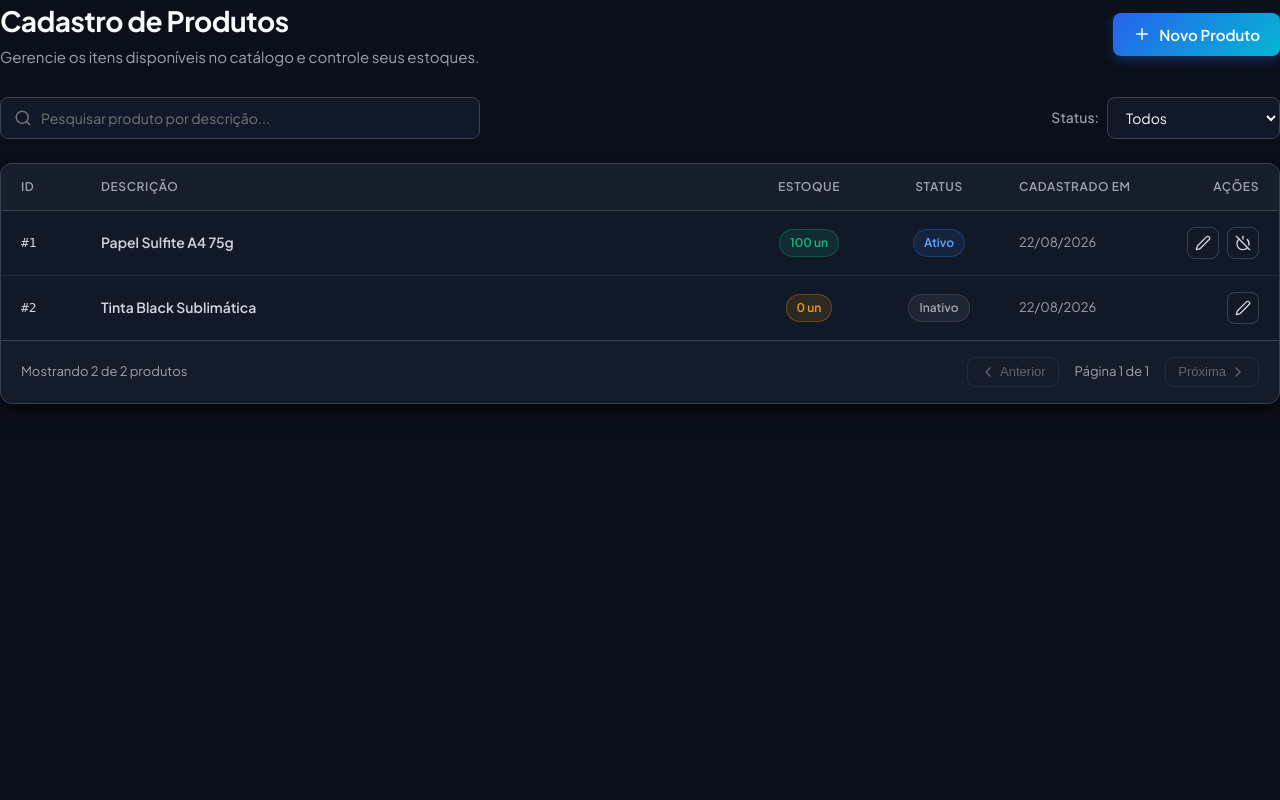
Test: Módulo de Produtos (Front-end) › deve abrir o modal de edição com os dados preenchidos
Click the button with test id "botao-editar-1". click: {"x": 1203, "y": 242}
box: [1187,226,1219,258]
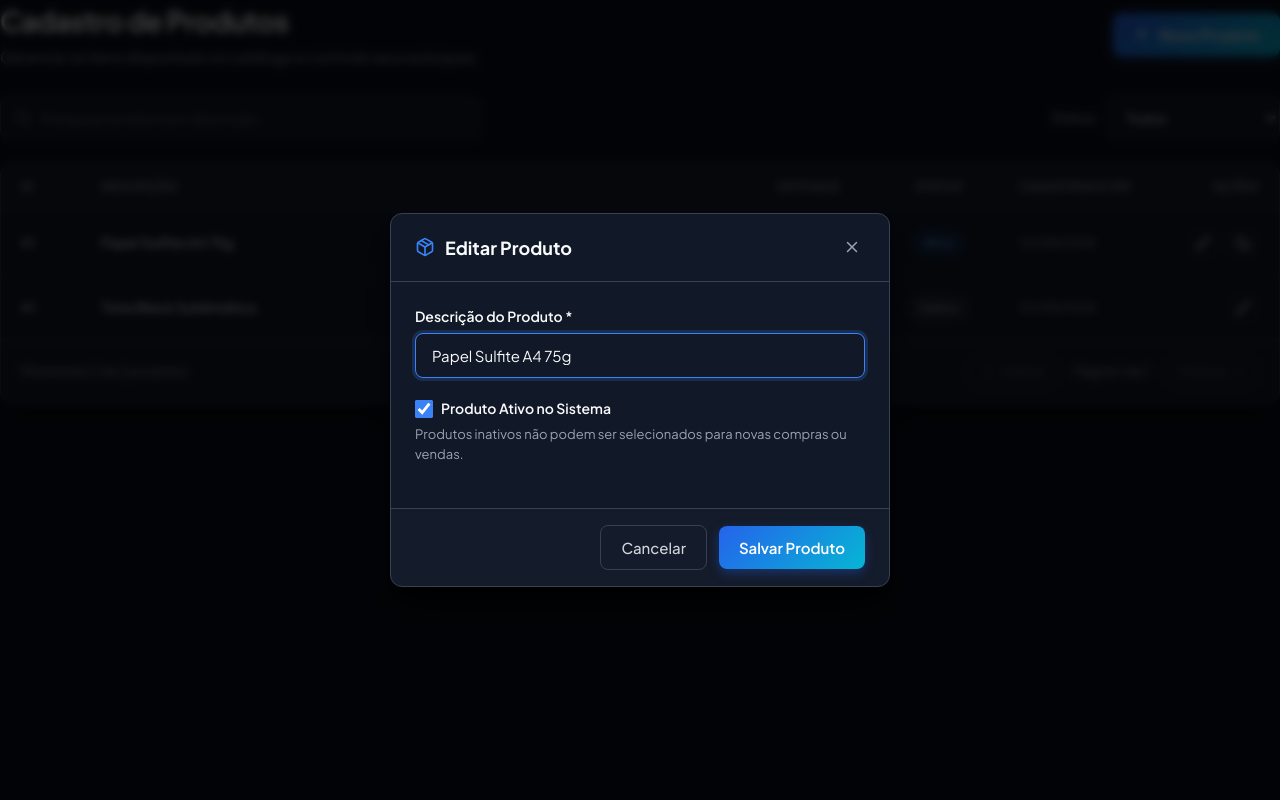
expect the heading "Editar Produto" is shown: met, box [445,234,572,261]
expect the field labelled "Descrição do Produto *" holds "Papel Sulfite A4 75g": met, box [415,333,865,378]
